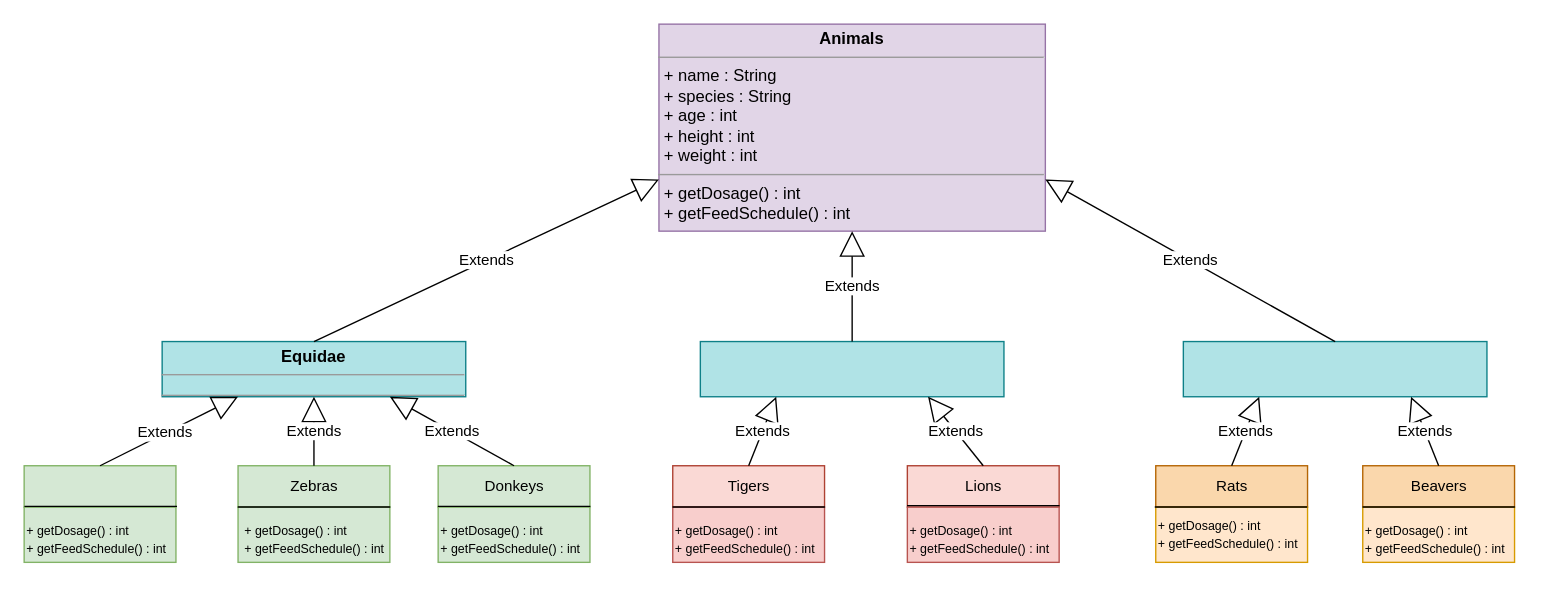
Image size: 1566x592. Some labels were removed from this diagram. Each missing label, with the centre of its shape:
"Felidae + getDosage() : int + getFeedSchedule() : int" belongs at [851,368].
"Horses" belongs at [99,485].
"Rodentia + getDosage() : int + getFeedSchedule() : int" belongs at [1334,368].
